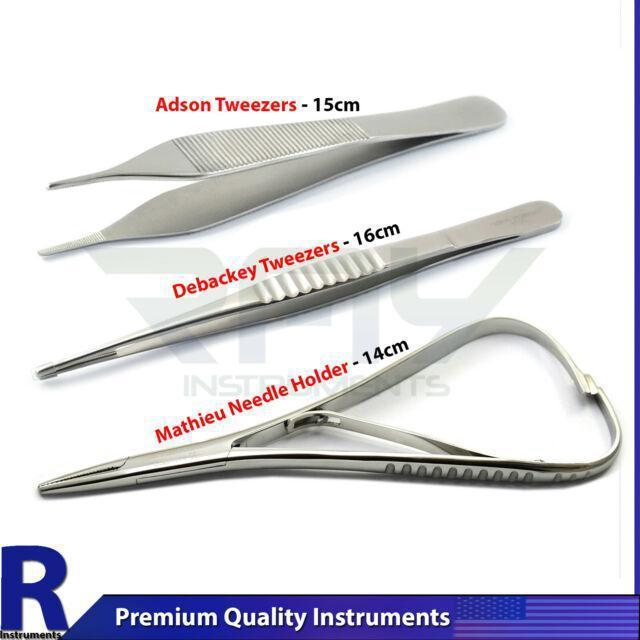Castroviejo: (35, 314, 623, 503)
Forceps: (34, 198, 565, 386), (36, 93, 510, 261)
